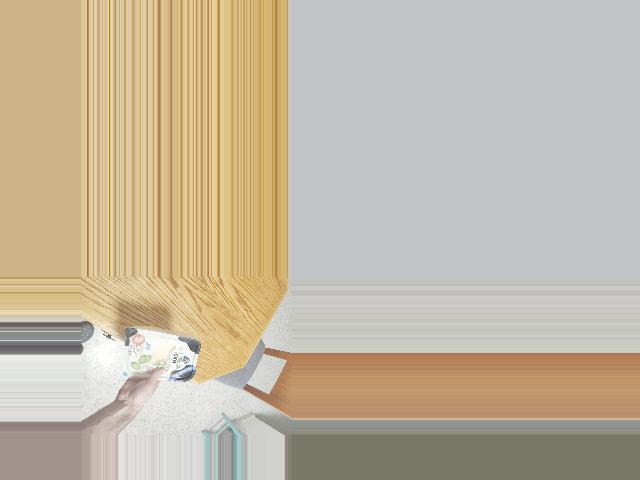cheese: (133, 329, 195, 391)
